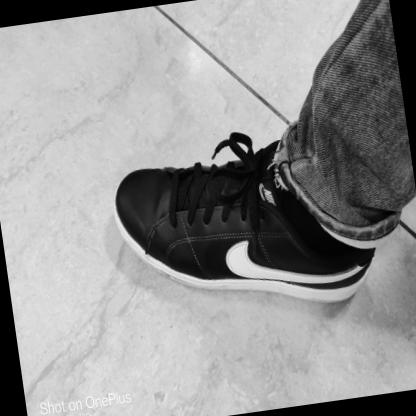ankle: (311, 251, 318, 262)
heel: (344, 292, 349, 298)
left_foot: (111, 138, 383, 332)
pinky: (126, 224, 133, 233)
toe: (142, 172, 151, 181)
